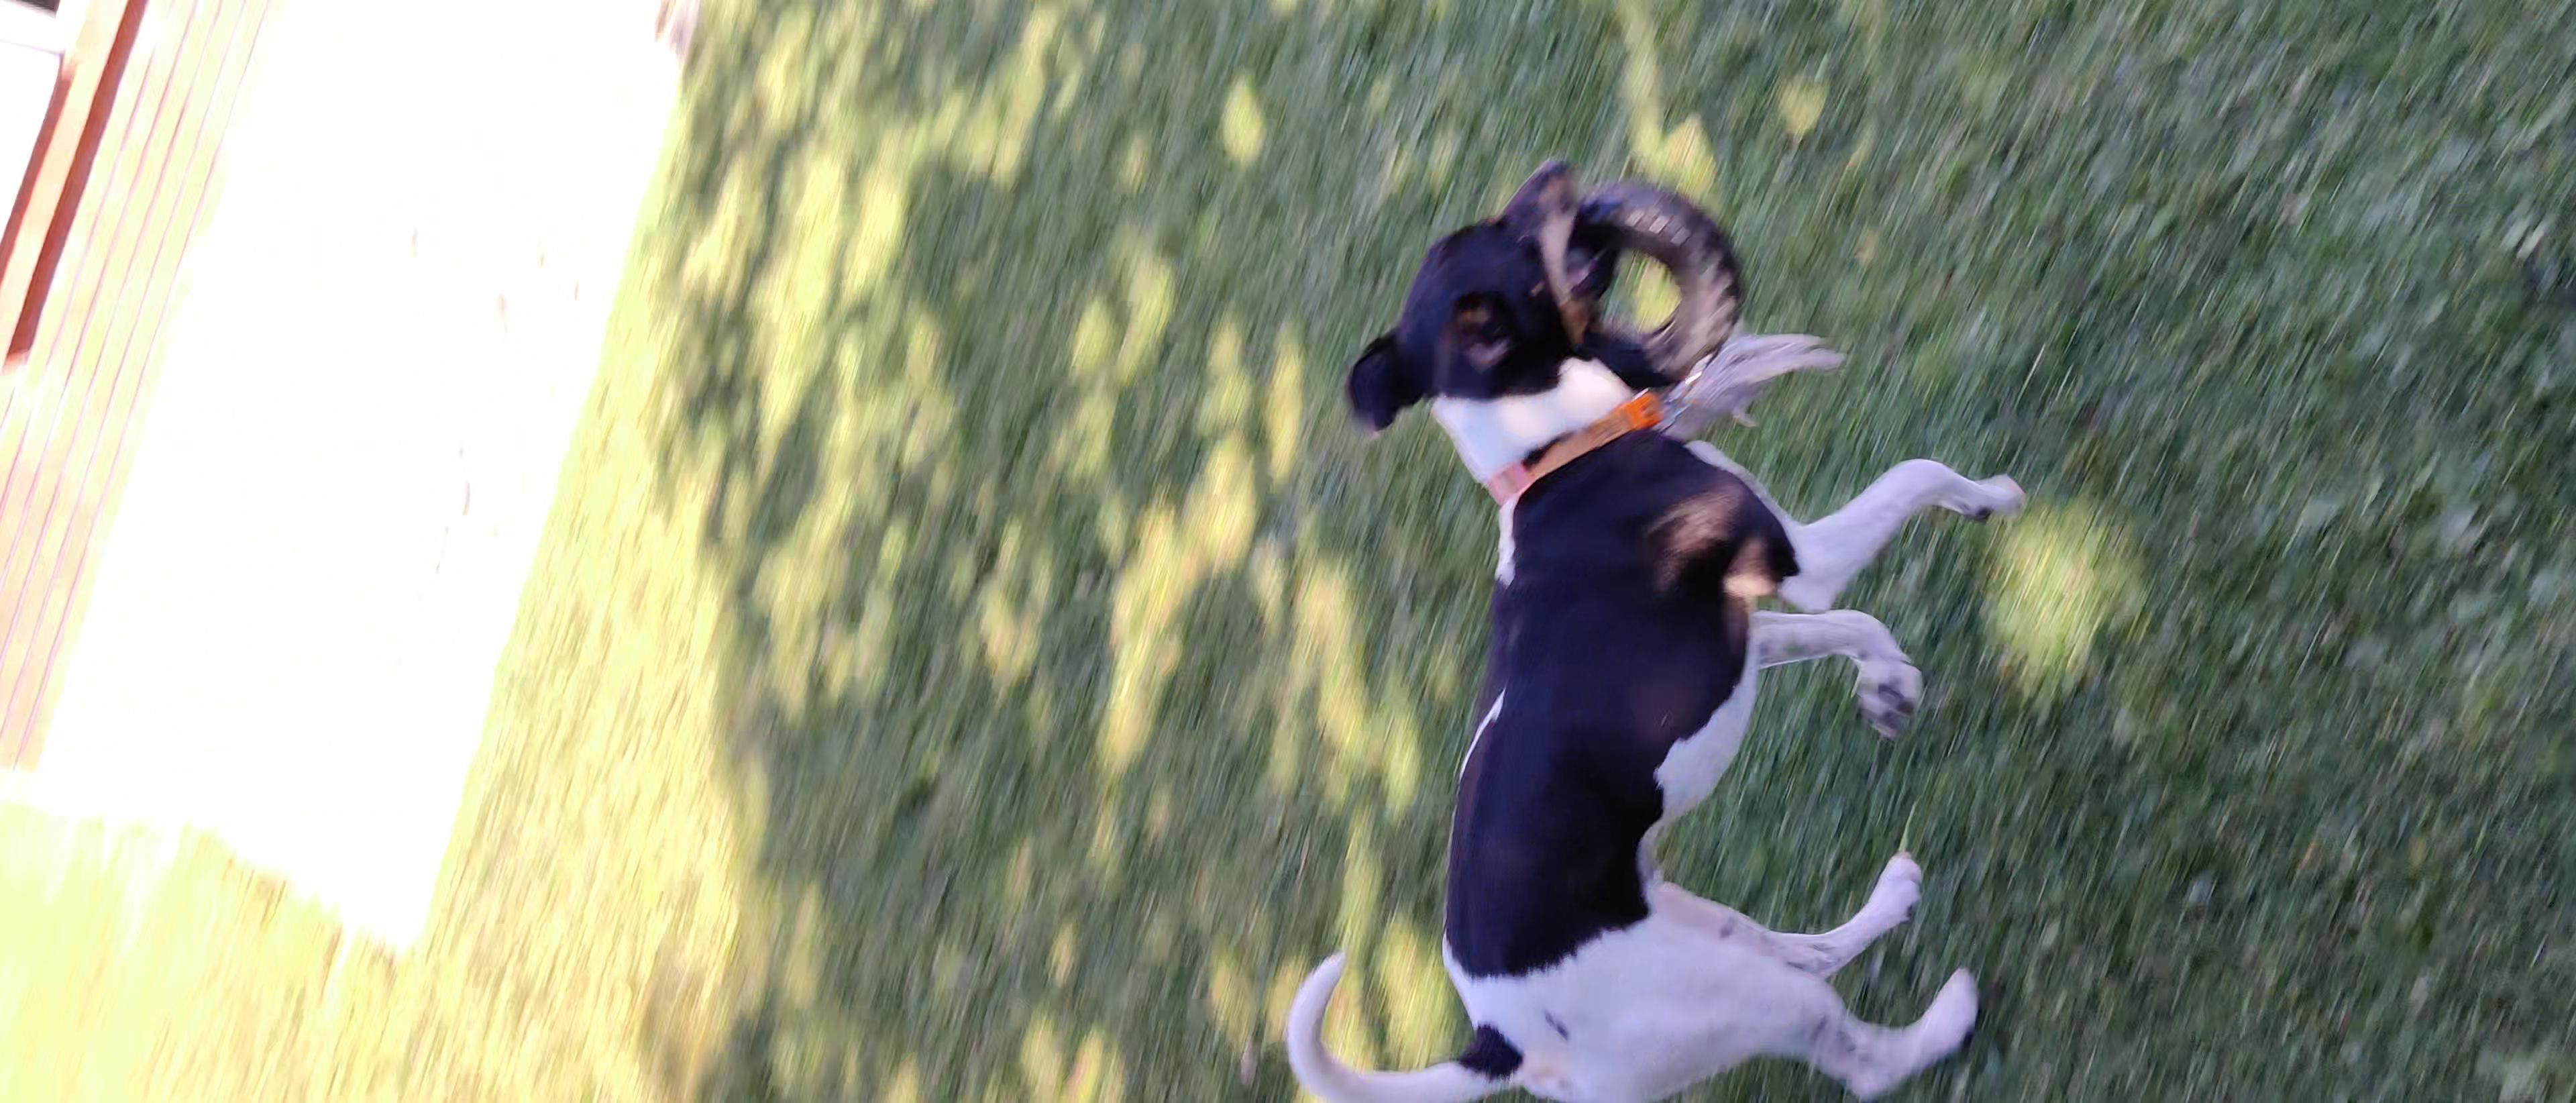Dog: (1267, 159, 2039, 1103)
